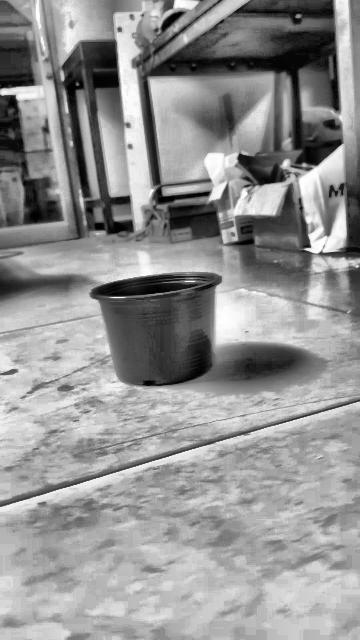pot: (91, 272, 221, 385)
